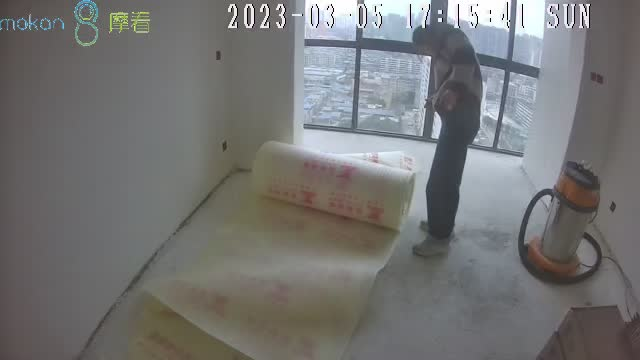people: (411, 23, 483, 257)
window: (300, 1, 544, 155)
